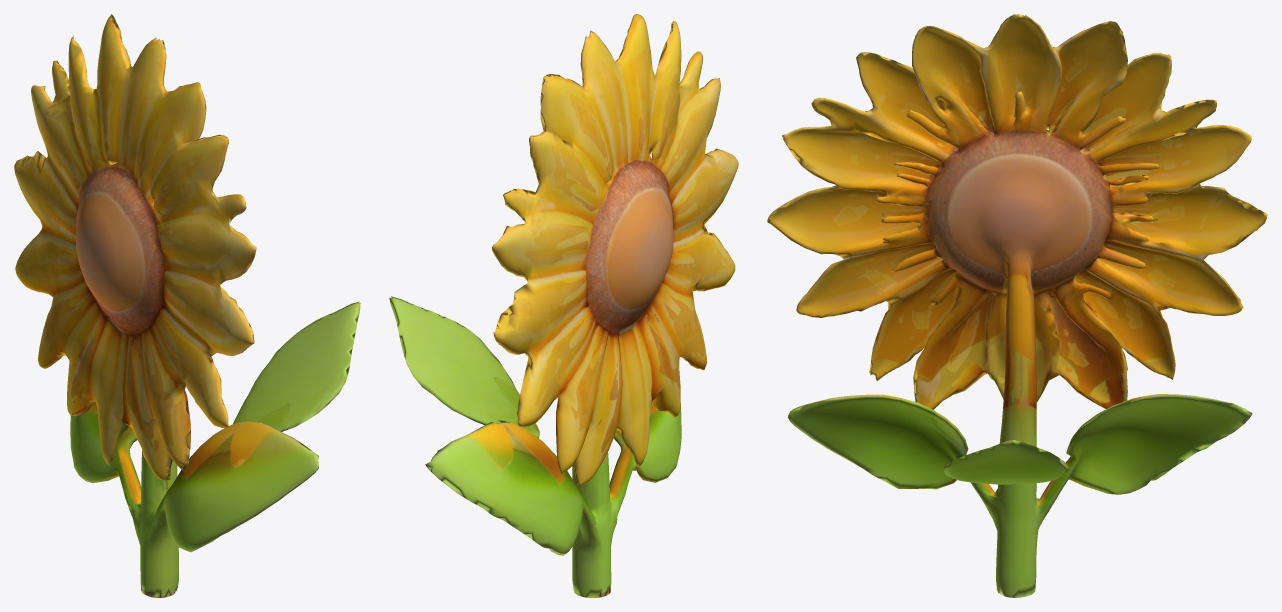
Rendered from Sunburst_Blossom.glb.
The picture shows the model from 3 angles, left to right: view 1: azimuth 30°, elevation 25°; view 2: azimuth 150°, elevation 25°; view 3: azimuth 270°, elevation 25°; orthographic projection. The views are drawn at different scales.
Bounding box in the file's own units: 1.01 × 2 × 1.57.
Materials: 1 (1 with a texture image).
